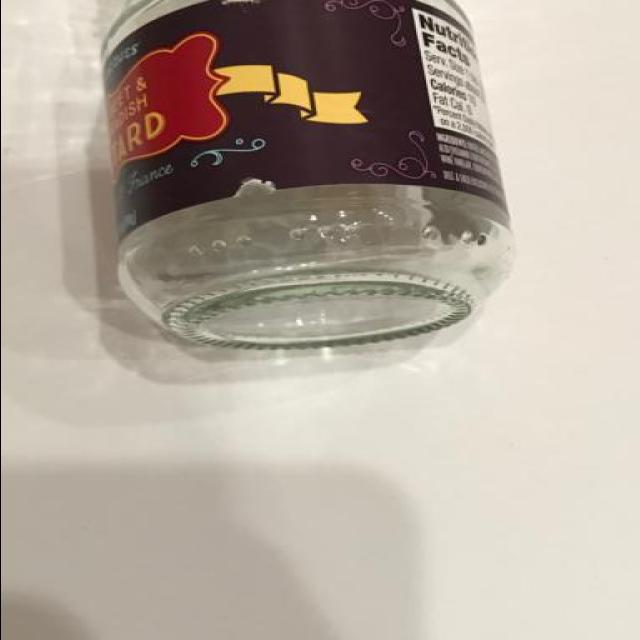glass: (64, 0, 526, 415)
